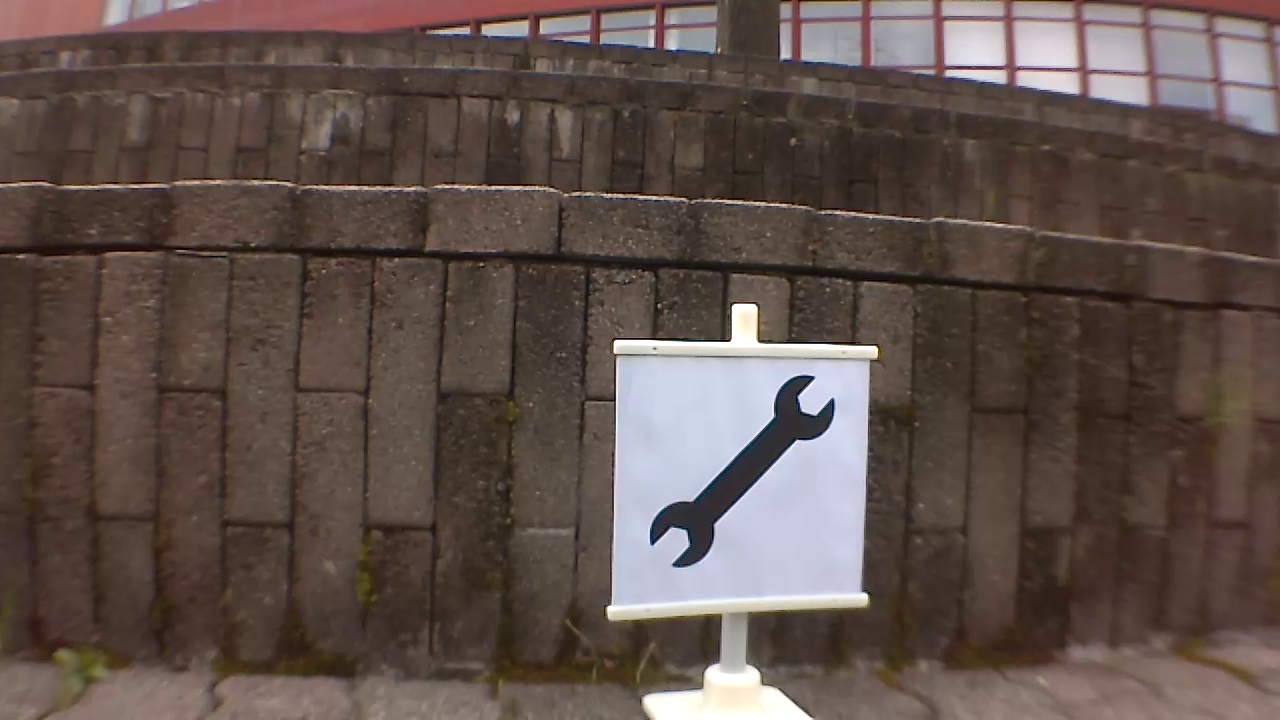wrench: (645, 369, 839, 575)
